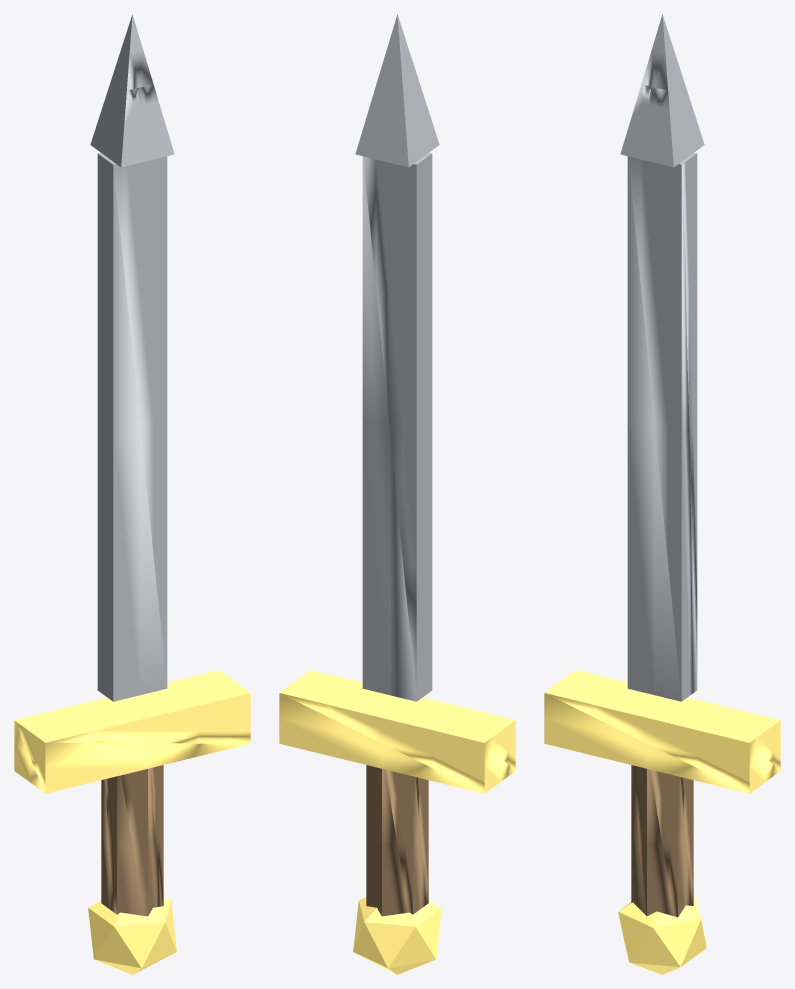
Rendered from sword.glb.
The picture shows the model from 3 angles, left to right: view 1: azimuth 30°, elevation 25°; view 2: azimuth 150°, elevation 25°; view 3: azimuth 330°, elevation 25°; orthographic projection.
Parts seen in each view (by area): view 1: SwordGrip; view 2: SwordGrip; view 3: SwordGrip.
Part boxes in pixels (left/top/right/bottom): SwordGrip: left=14, top=14, right=250, bottom=974; SwordGrip: left=279, top=14, right=515, bottom=974; SwordGrip: left=544, top=14, right=780, bottom=974.
Size of the model in its own units: 0.38 by 1.7 by 0.1361.
